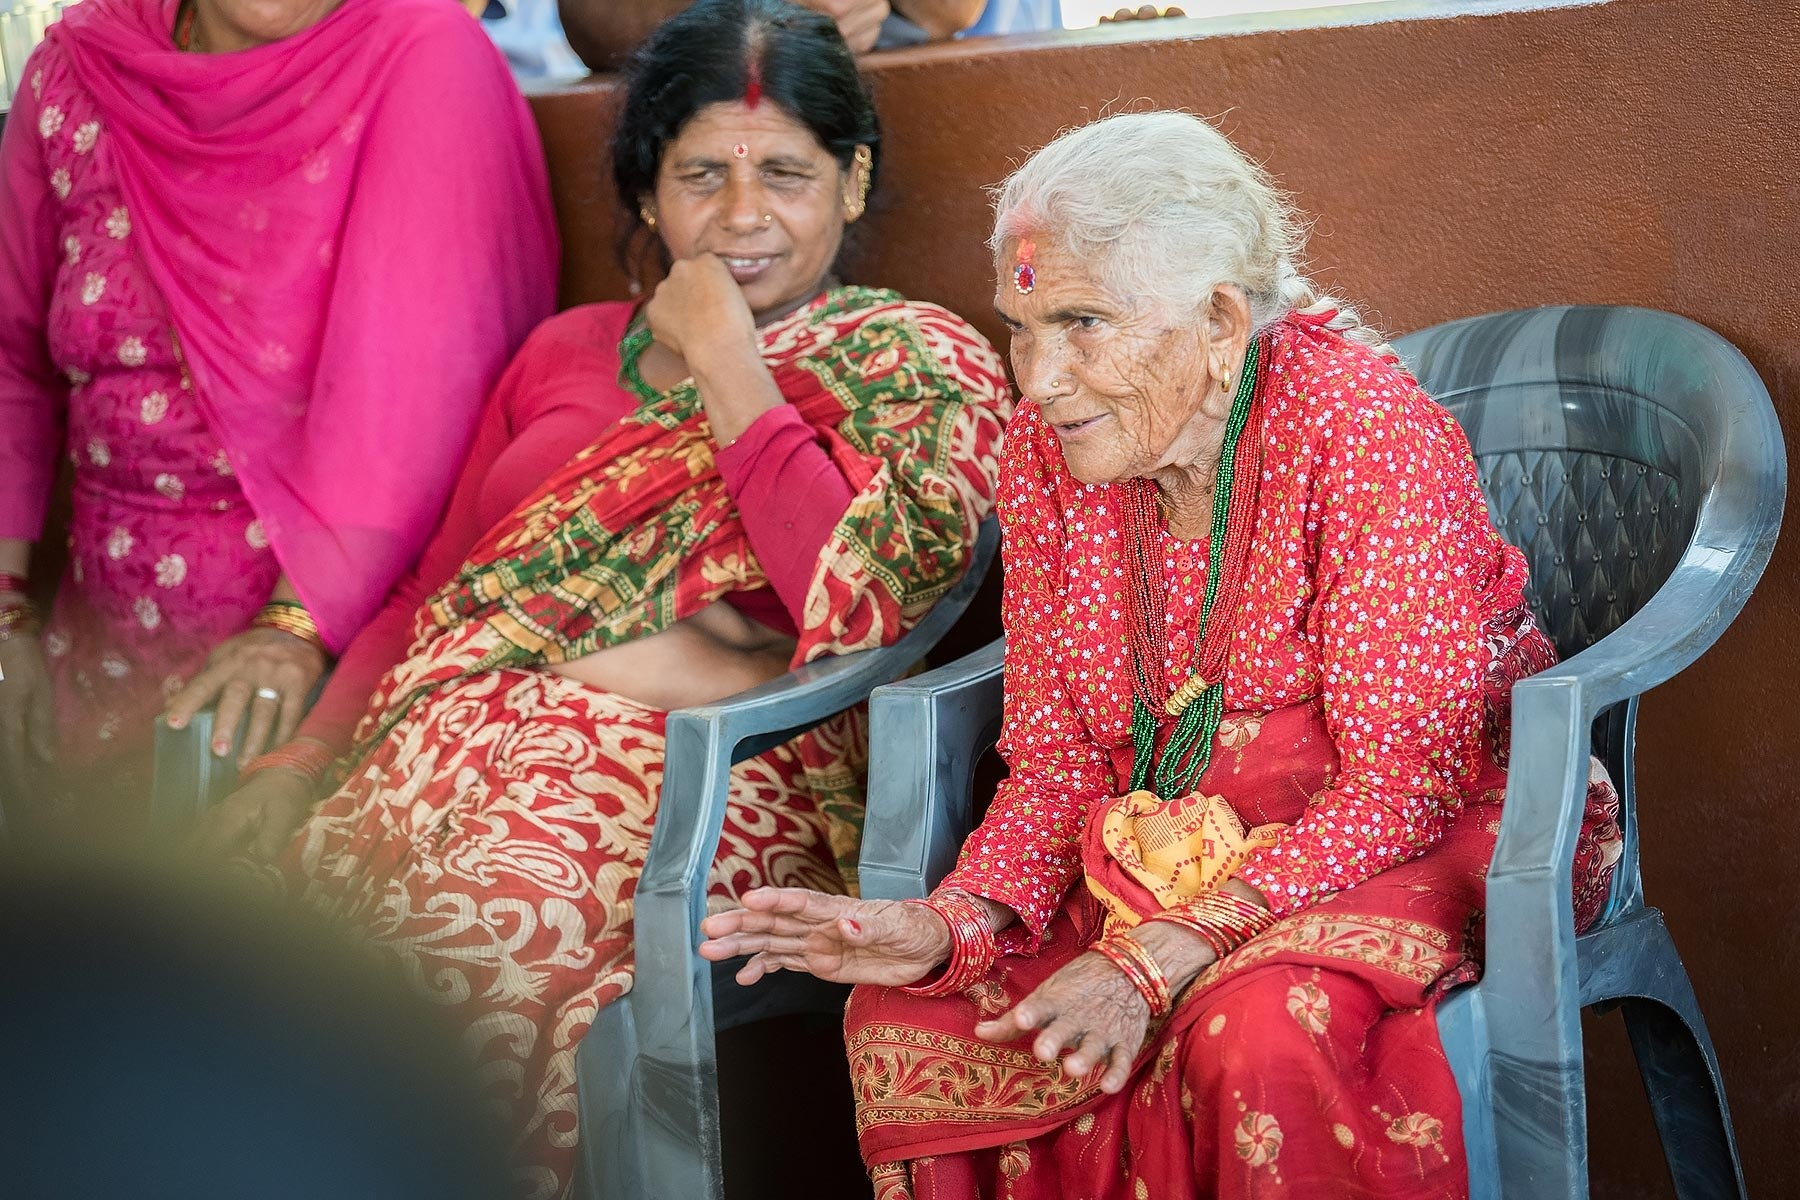face_no_mask: (989, 112, 1275, 486), (629, 8, 872, 300)
